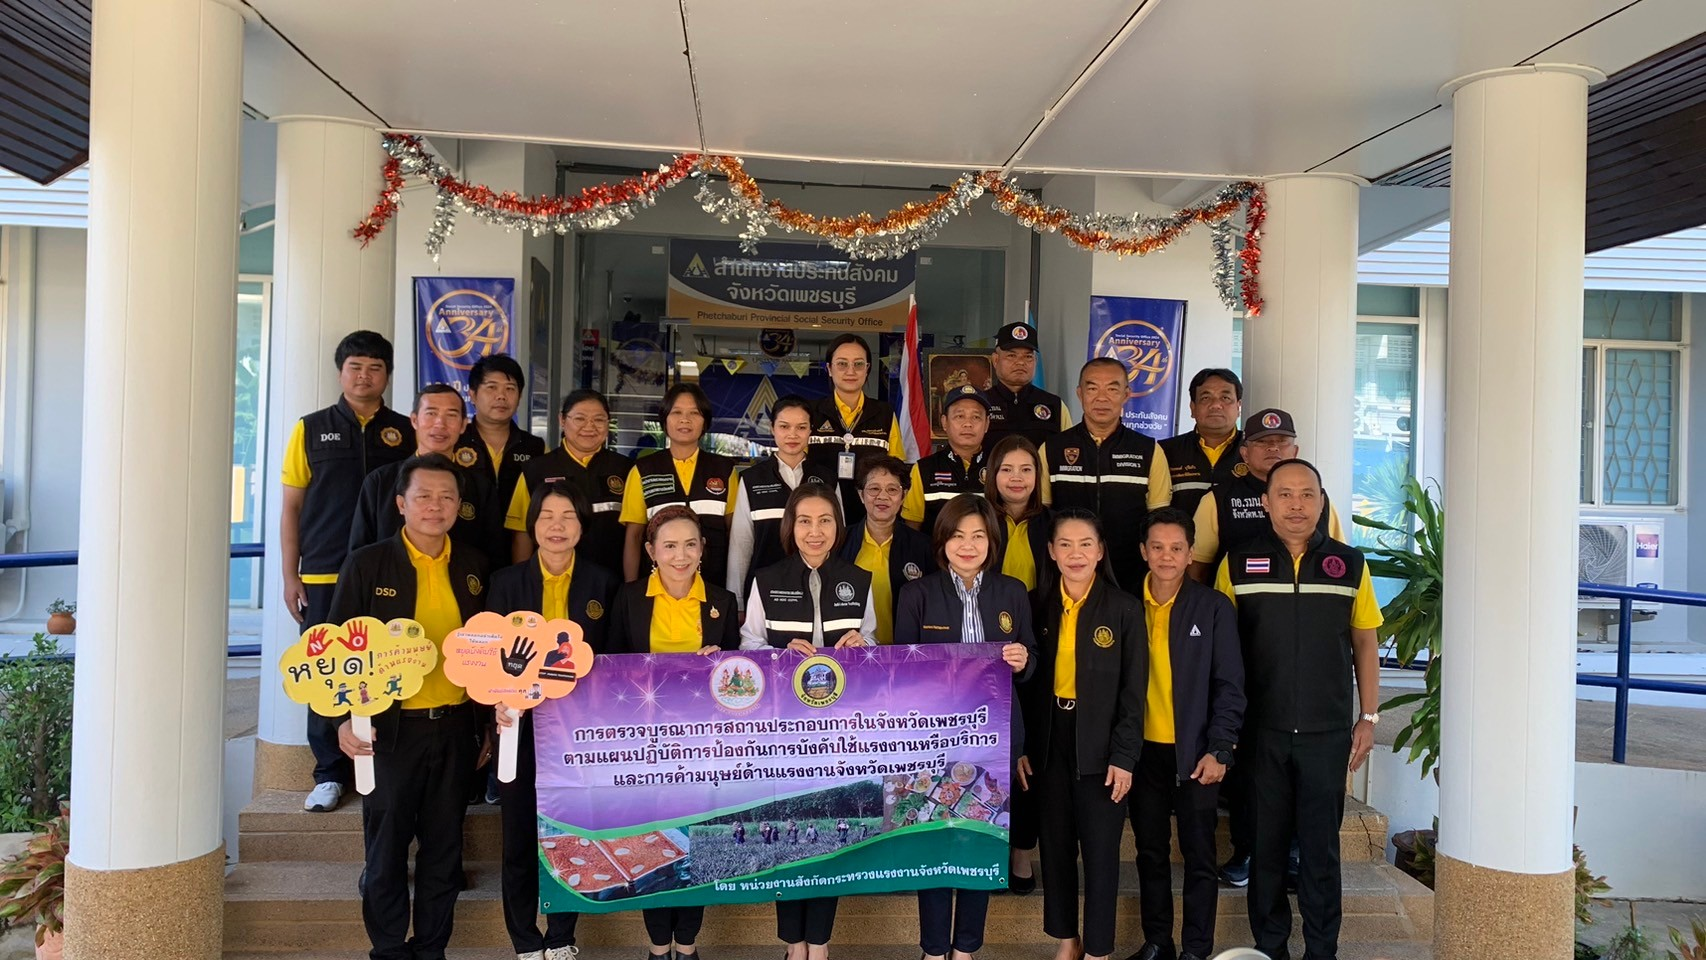text: (559, 727, 999, 768), (569, 703, 989, 745), (610, 751, 947, 792), (712, 858, 1002, 896), (709, 251, 902, 290), (694, 307, 885, 328), (725, 280, 857, 306), (282, 651, 341, 686), (373, 640, 429, 661), (1120, 407, 1168, 422), (1121, 418, 1167, 433), (1228, 493, 1262, 508), (342, 658, 362, 673), (374, 585, 396, 597), (318, 431, 342, 442), (511, 451, 531, 462)
